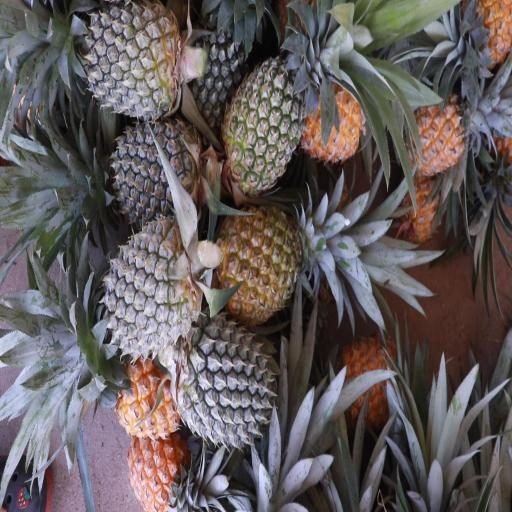------------------------------: (222, 67, 320, 191), (217, 205, 309, 318)
Pineapple - v8 v1: (109, 348, 183, 440), (299, 78, 364, 163), (340, 339, 395, 438), (407, 90, 468, 175), (124, 433, 187, 508)
